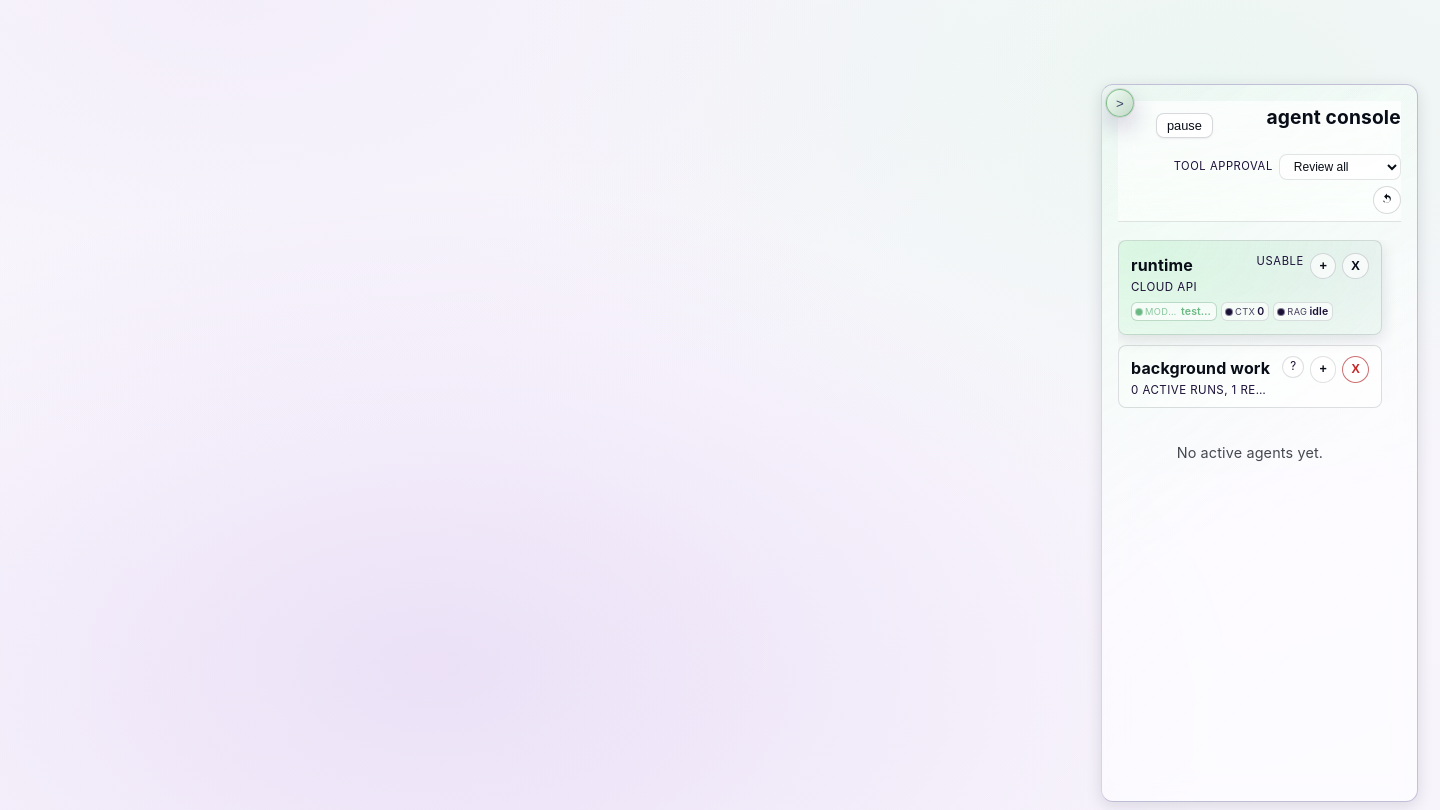
Test: AgentConsole › nests reflection workers inside the background panel
Click the button named "expand background" at (1323, 369), box [1310,356,1337,383]
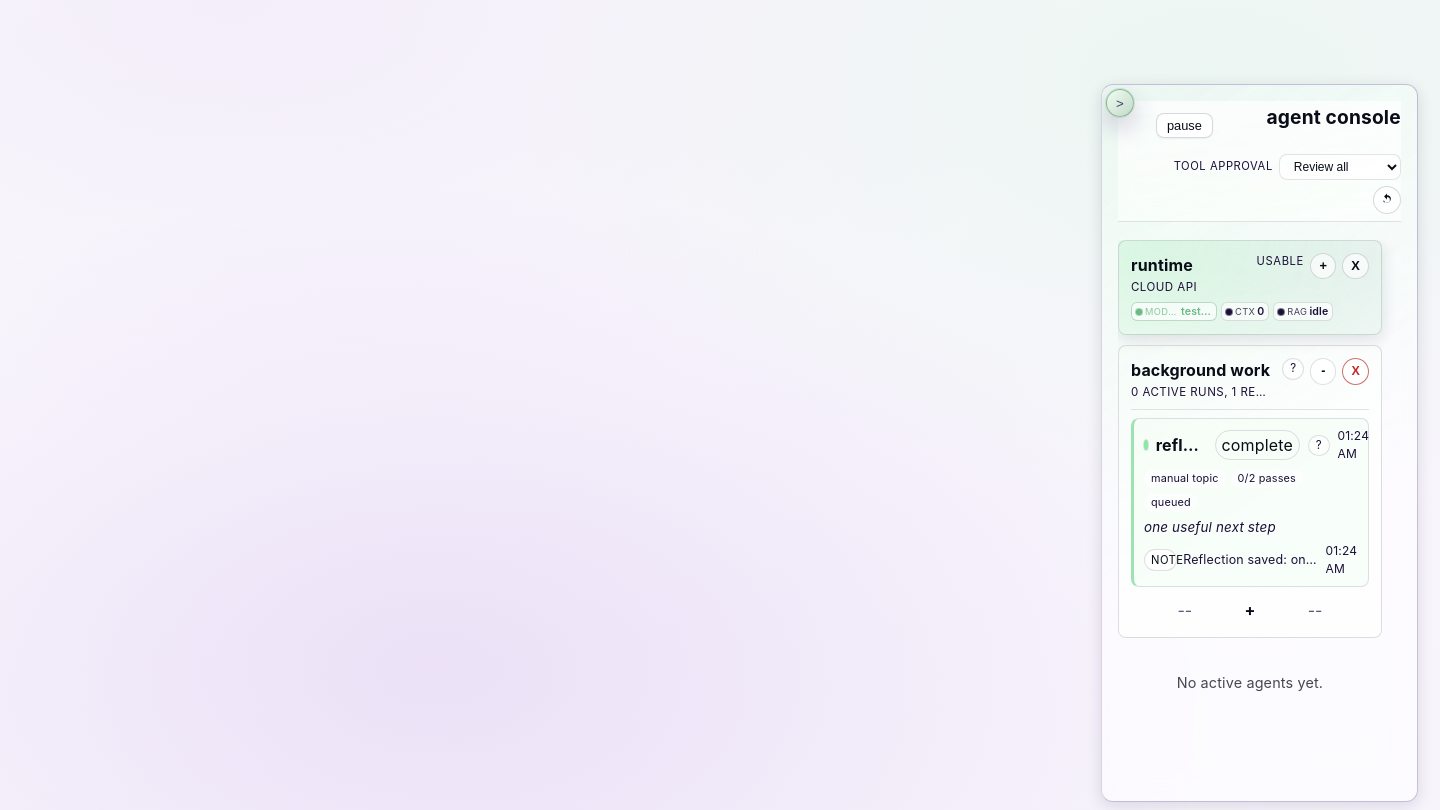
Check: the text "reflection worker" is shown, box [1156,434,1207,458]
Check: the text "one useful next step" is shown, box [1144,519,1276,535]
